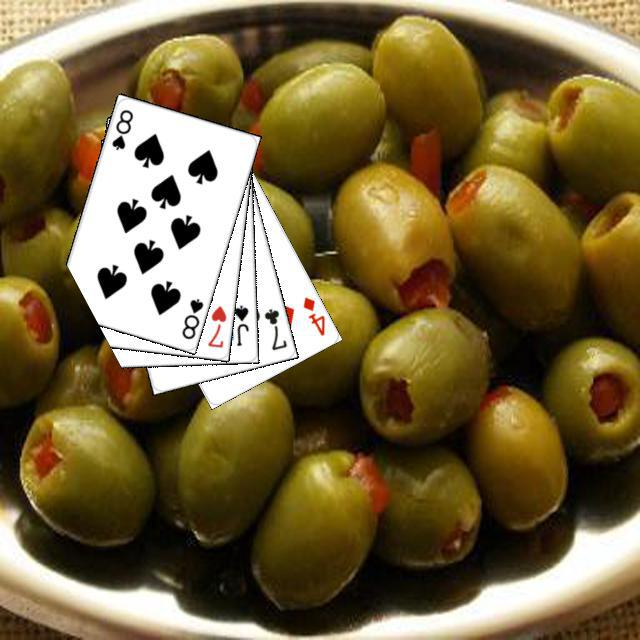4d: (298, 292, 327, 337)
7c: (259, 303, 289, 352)
7h: (203, 301, 228, 349)
8s: (177, 293, 205, 341), (107, 104, 135, 152)
Js: (230, 300, 250, 348)
